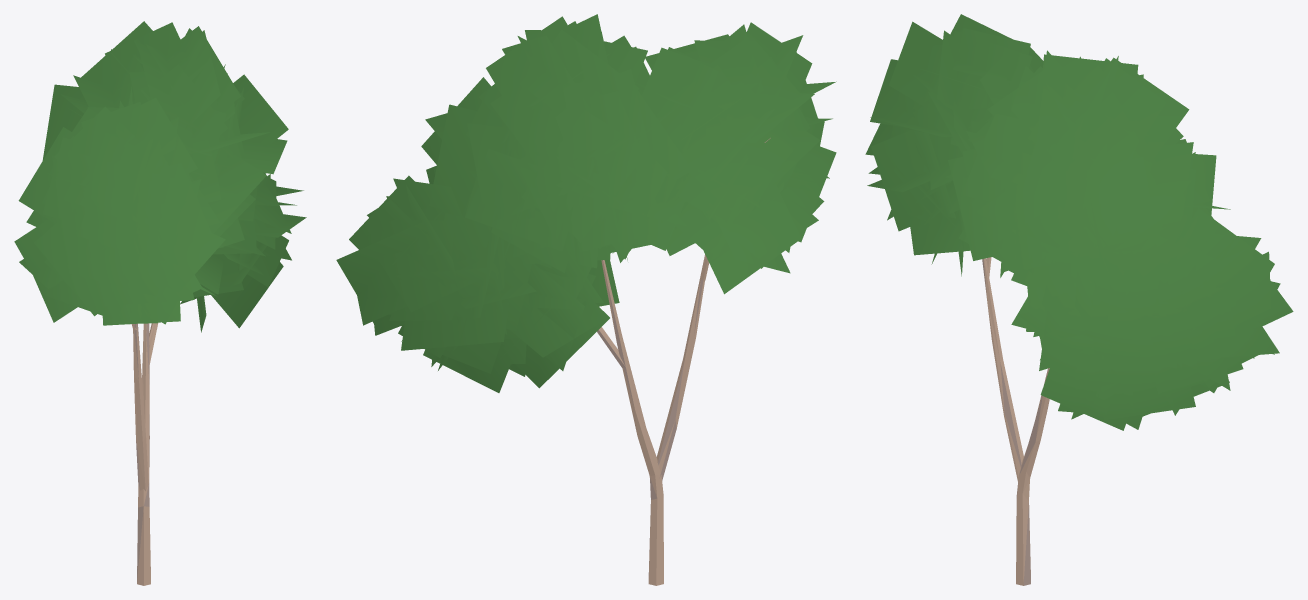
Rendered from oak-3.glb.
3 renders of one model, left to right at view 1: azimuth 30°, elevation 25°; view 2: azimuth 150°, elevation 25°; view 3: azimuth 270°, elevation 25°, orthographic. The views are drawn at different scales.
Parts seen in each view (by area): view 1: Node; view 2: Node; view 3: Node.
Part boxes in pixels (left/top/right/bottom): Node: left=14, top=21, right=306, bottom=585; Node: left=336, top=14, right=836, bottom=585; Node: left=865, top=14, right=1293, bottom=585.
Size of the model in its own units: 4.72 by 7.09 by 4.94.
